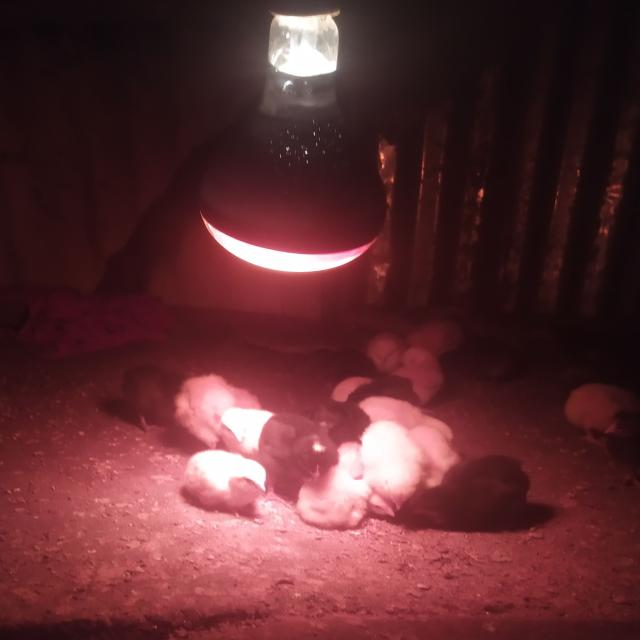chick: (410, 453, 532, 532), (170, 372, 263, 450), (296, 441, 374, 529), (257, 410, 340, 486), (182, 451, 272, 518), (359, 420, 423, 512), (357, 393, 459, 445), (561, 381, 640, 446), (118, 366, 187, 436), (386, 344, 445, 407), (469, 337, 519, 390), (402, 317, 462, 357), (364, 331, 406, 374), (326, 374, 375, 403)
